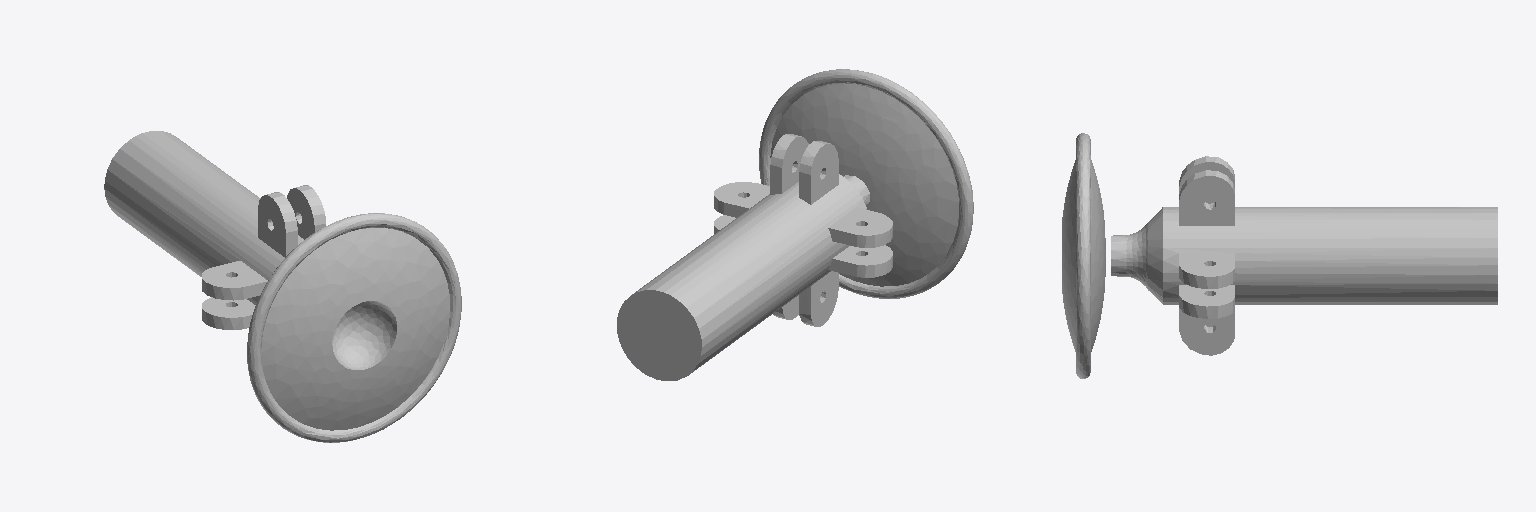
File: slidy.obj
3 views of the same model, side by side, from view 1: azimuth 30°, elevation 25°; view 2: azimuth 150°, elevation 25°; view 3: azimuth 270°, elevation 25° (orthographic).
Visible parts, largest first — view 1: Slidy_in_and_out_bit; view 2: Slidy_in_and_out_bit; view 3: Slidy_in_and_out_bit.
Boxes of the visible parts, box(x1,y1,x2,y2) form: Slidy_in_and_out_bit: box(104, 131, 461, 442); Slidy_in_and_out_bit: box(617, 69, 973, 380); Slidy_in_and_out_bit: box(1062, 133, 1497, 378).
Bounding box in the file's own units: 0.3786 × 0.3784 × 0.67.